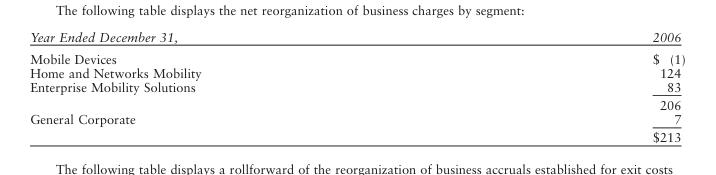table: (29, 28, 684, 144)
table column: (29, 28, 426, 144), (426, 28, 684, 144)
table row: (29, 46, 684, 65), (29, 28, 684, 46), (29, 127, 684, 144), (29, 79, 684, 95), (29, 95, 684, 111), (29, 111, 684, 127), (29, 65, 684, 79)
